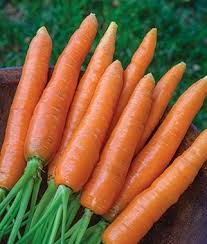carrot: (92, 112, 207, 240), (24, 6, 101, 192), (73, 77, 141, 225), (5, 25, 58, 214), (62, 50, 124, 202), (58, 18, 107, 162)
